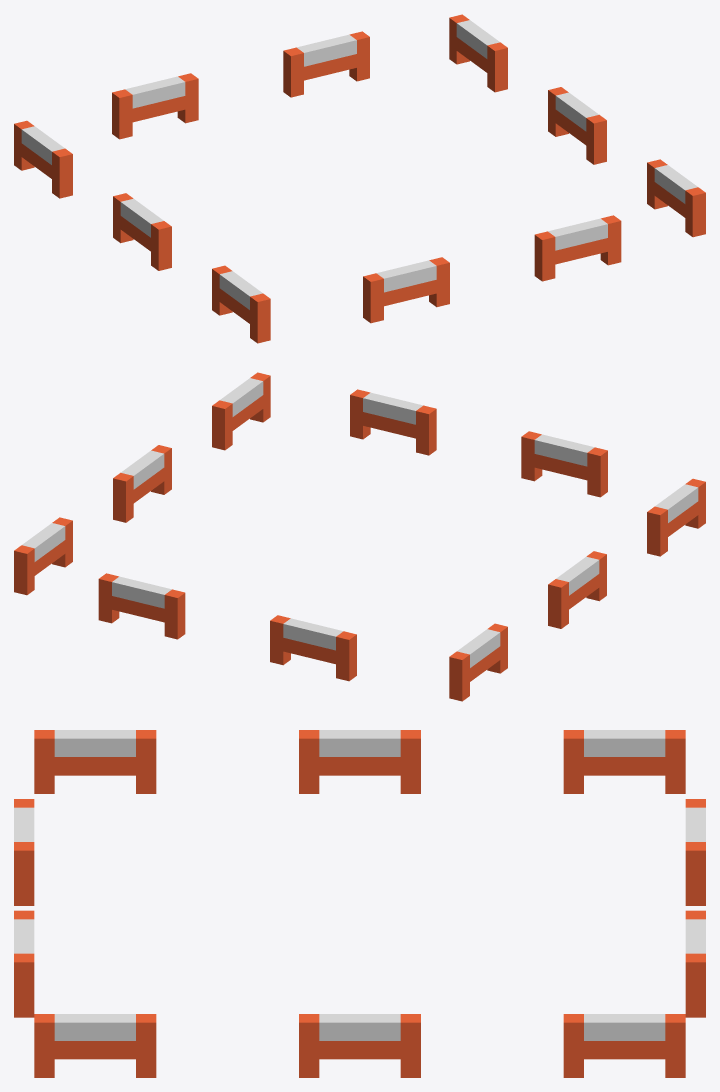
File: newbase-1.obj
The picture shows the model from 3 angles, top to bottom: view 1: azimuth 30°, elevation 25°; view 2: azimuth 150°, elevation 25°; view 3: azimuth 270°, elevation 25°; orthographic projection. The views are drawn at different scales.
Size of the model in its own units: 3.4 by 0.3 by 3.4.
Materials: 1 (1 with a texture image).
